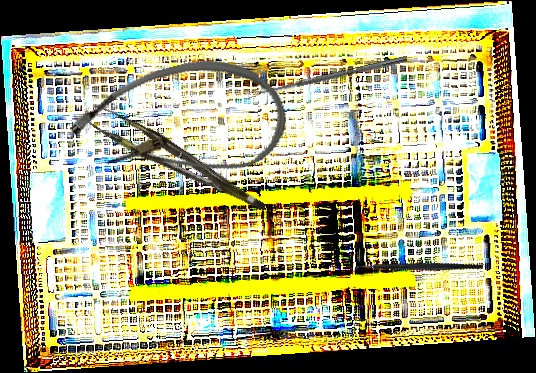Cannula: (61, 41, 297, 209)
Chopper: (350, 222, 485, 317)
Surgical Spoon: (247, 54, 408, 99)
Tissue Forceps: (83, 93, 267, 232)
